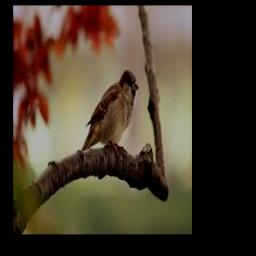Sparrow: (81, 70, 139, 151)
